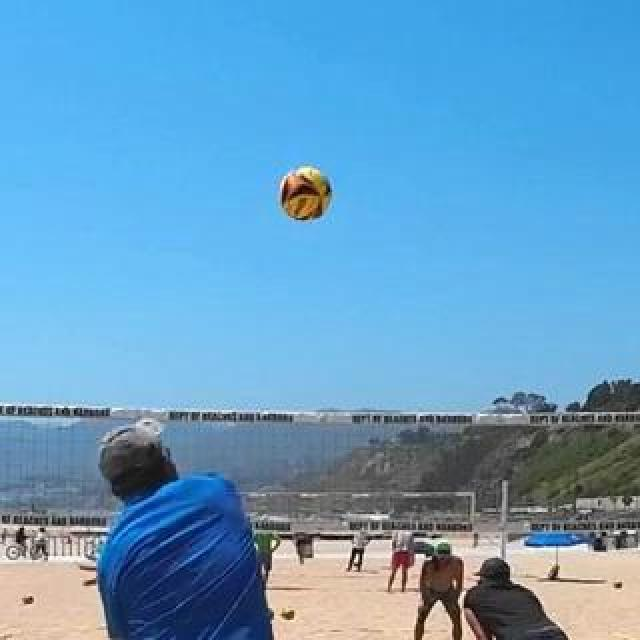volleyball: (282, 170, 330, 222), (282, 607, 294, 621), (23, 592, 35, 604), (613, 578, 623, 590)
